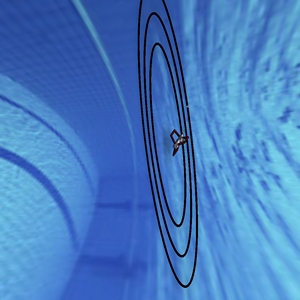circle: (105, 1, 219, 293)
submarine: (163, 120, 191, 163)
